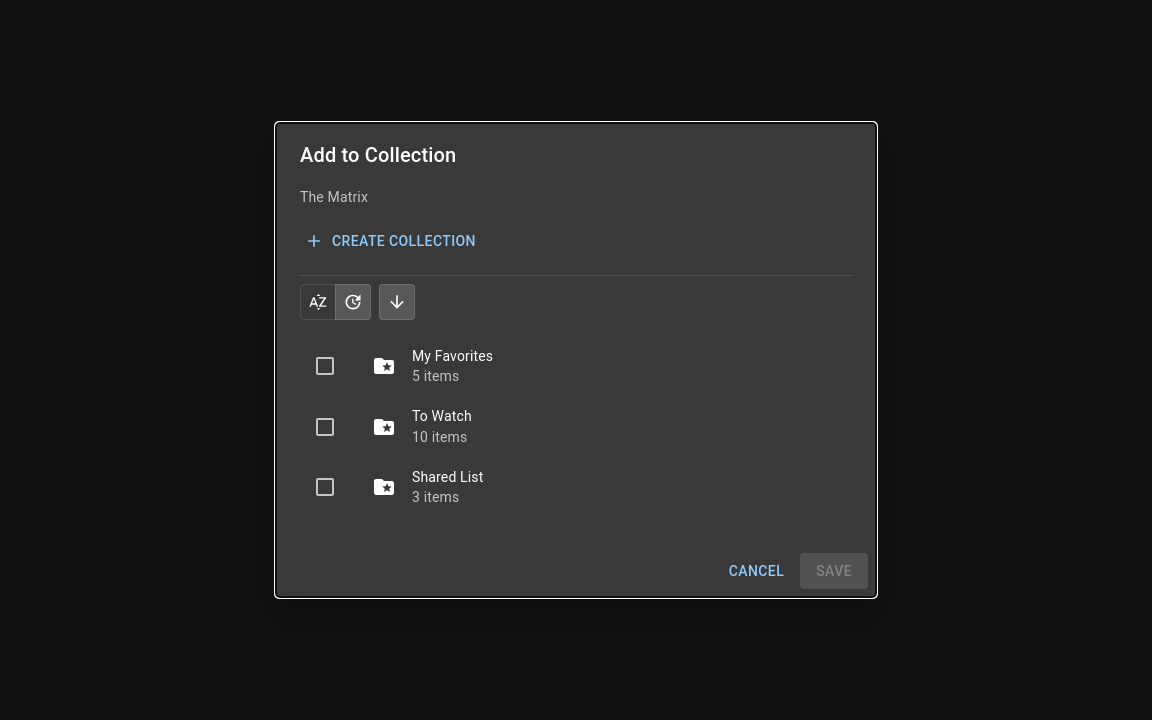
AddToCollectionDialog › selection › allows selecting a collection
The image size is (1152, 720).
Click the text "My Favorites" at [453, 356], box [412,348,493,364]
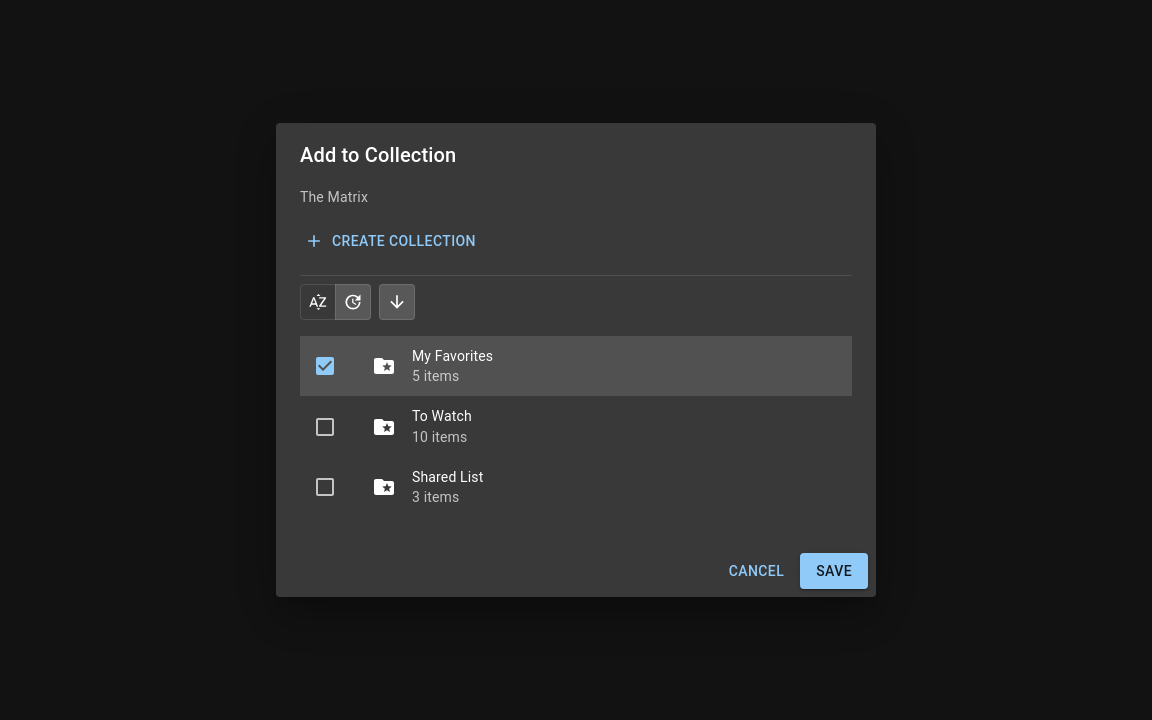
Expected: the 1st checkbox is checked, [313,354,337,378]
